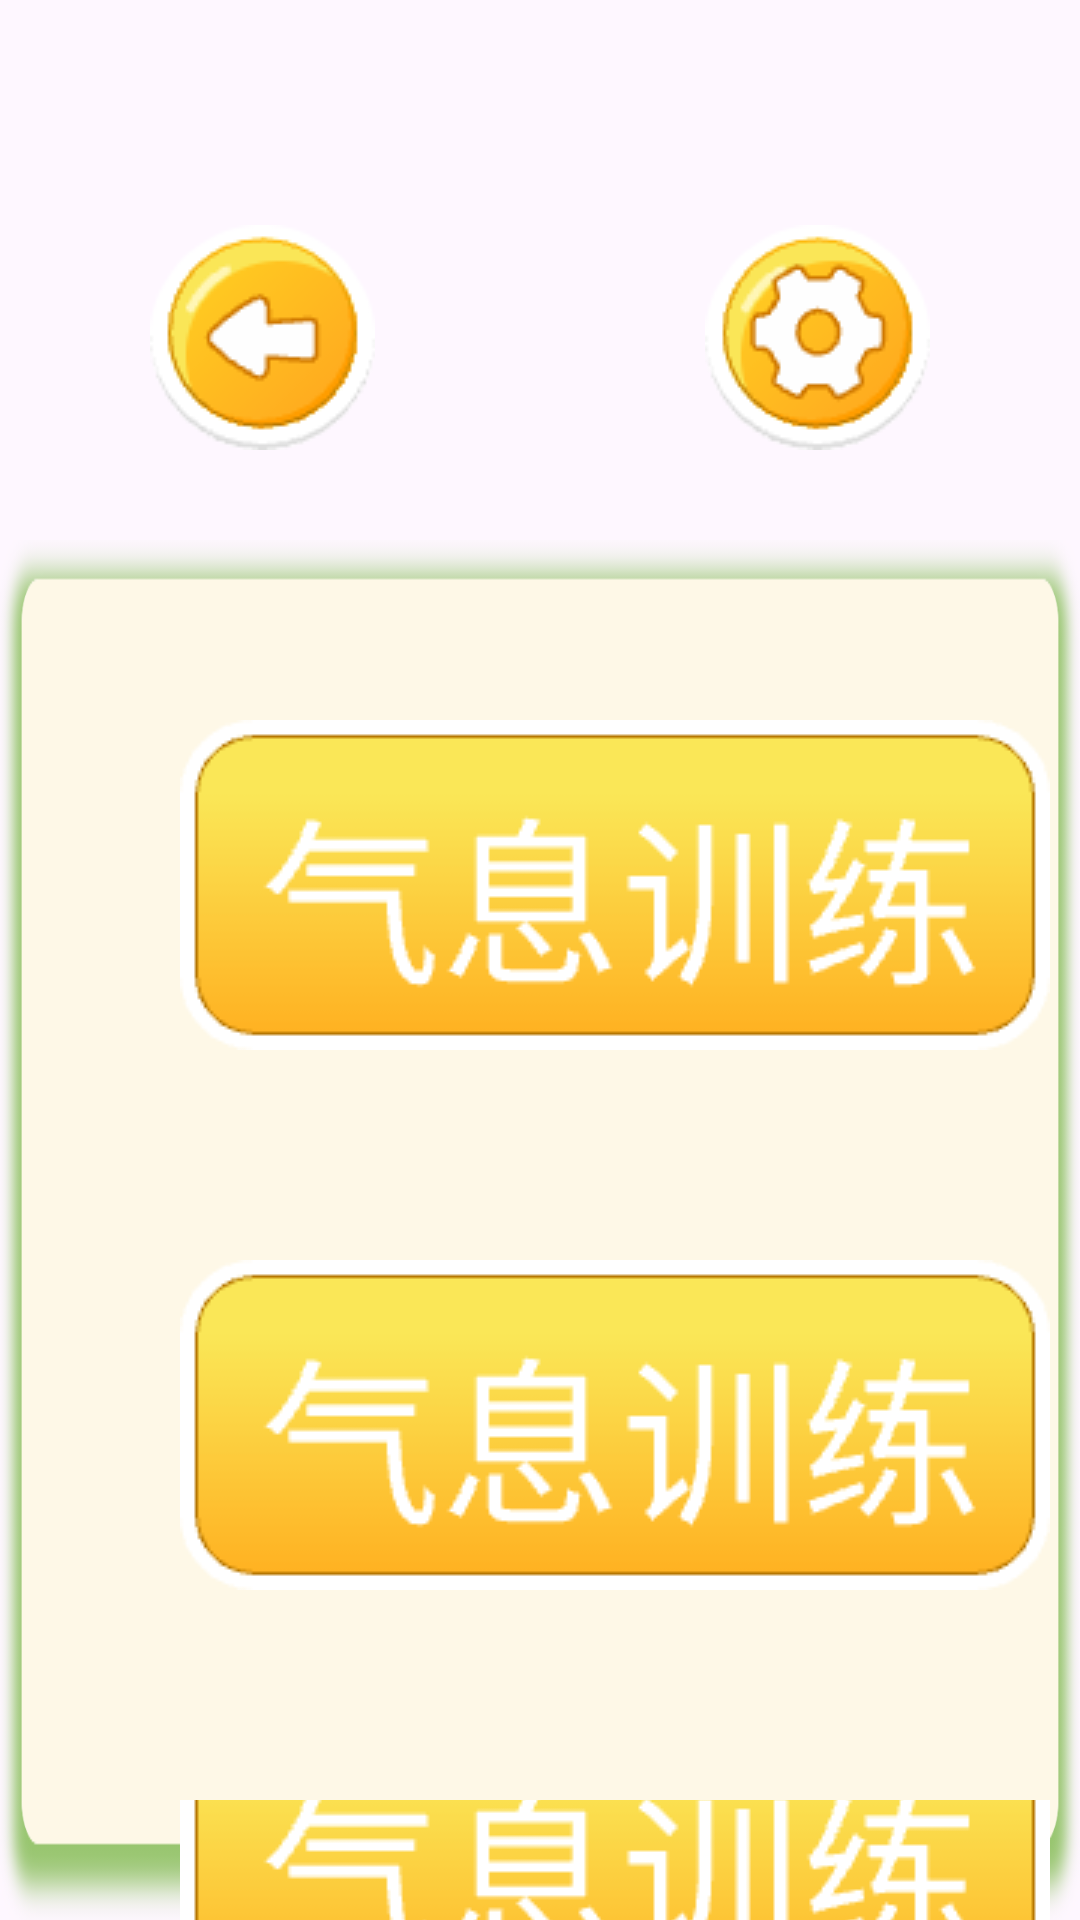

Locate icon controls on the screen. Image size 1080 × 1920, boxes as (x1, y1, x2, y2).
back: (160, 236, 368, 450)
settings: (715, 236, 923, 450)
